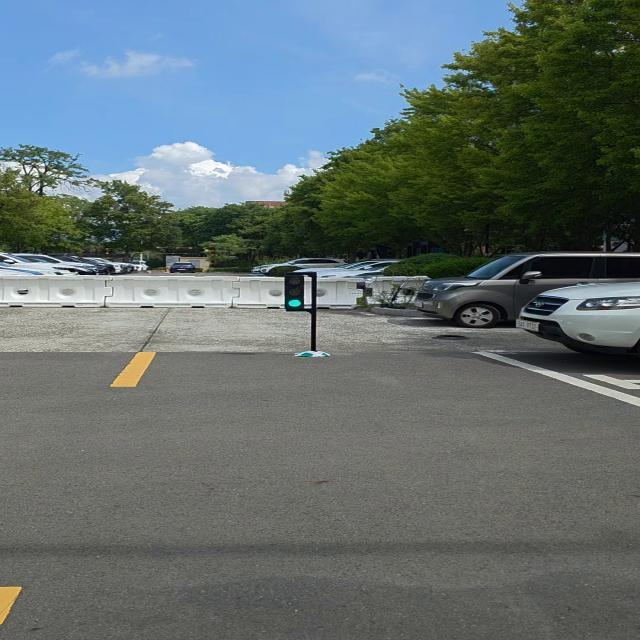green: (284, 269, 310, 310)
